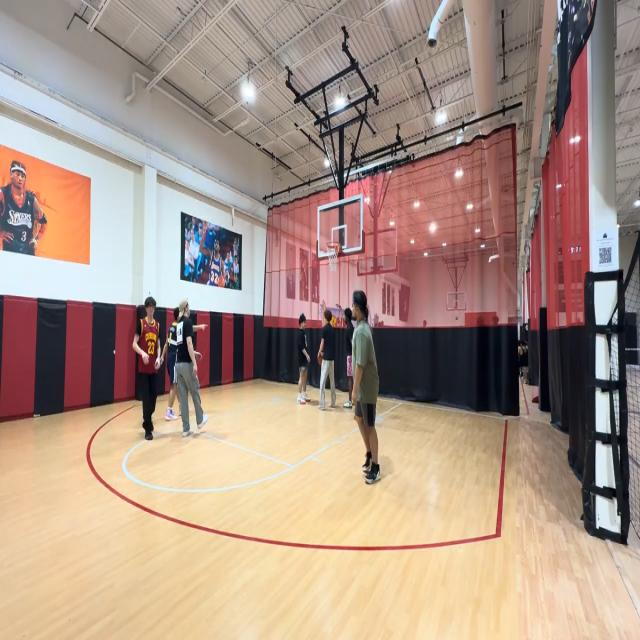Basketball: (318, 348, 322, 367)
Basketball Rim: (326, 240, 340, 272)
Player: (352, 286, 382, 484), (174, 295, 210, 439), (132, 295, 160, 443), (164, 301, 177, 430), (320, 310, 335, 412), (296, 313, 310, 408), (343, 306, 352, 414)
